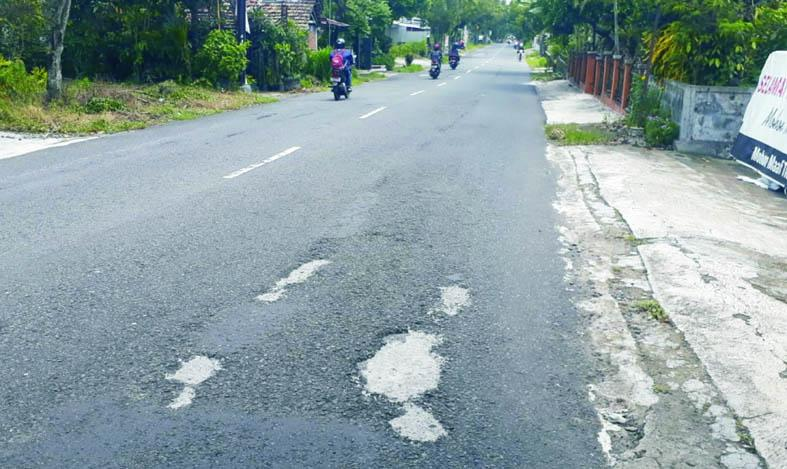Pothole: (354, 286, 474, 446), (253, 242, 332, 305), (162, 345, 226, 412)
